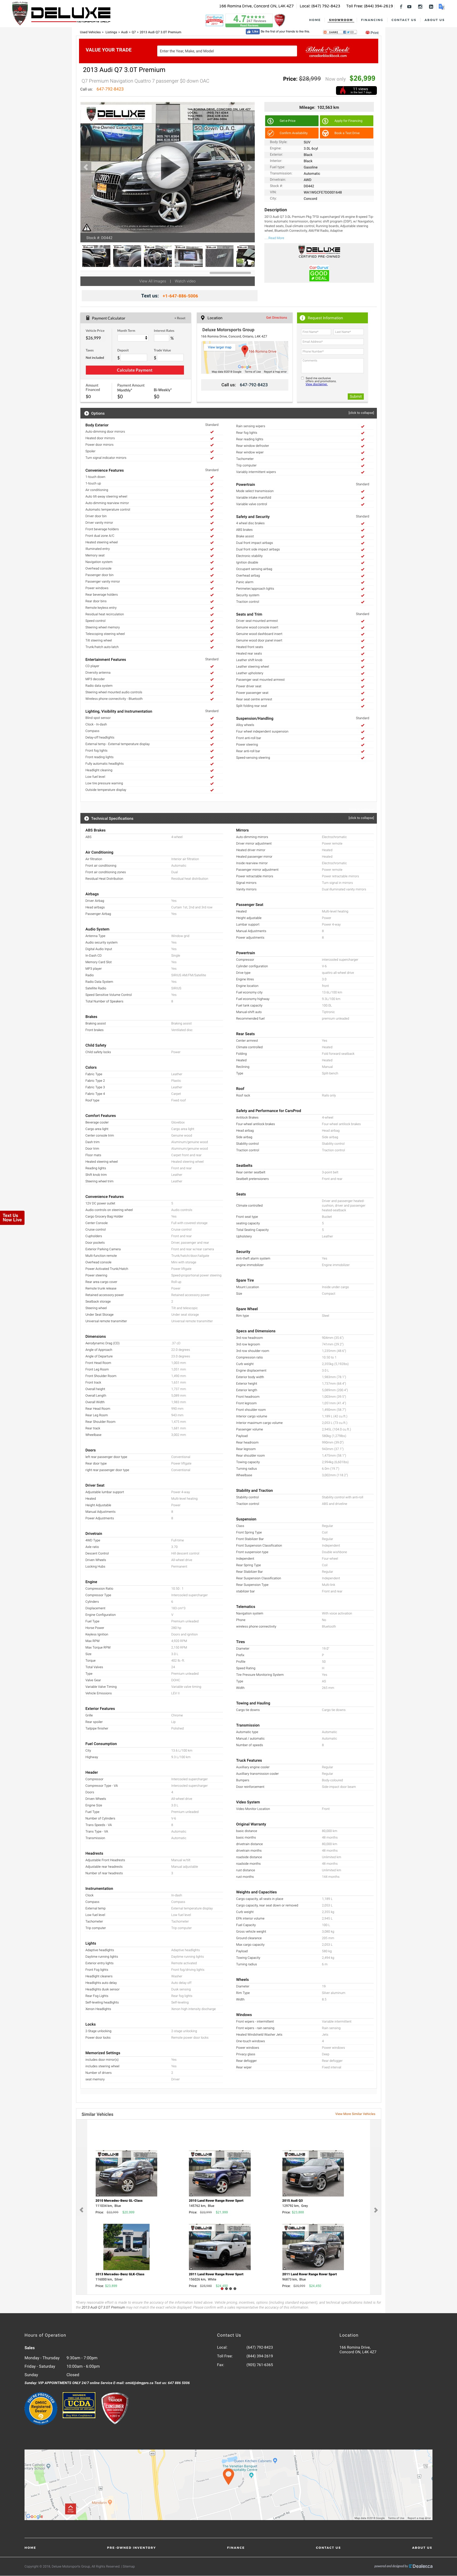car: (243, 161, 255, 174)
